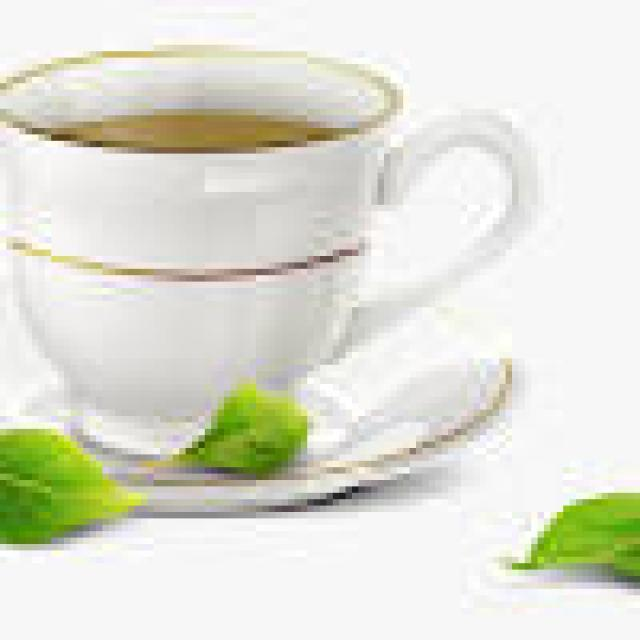taza: (0, 32, 545, 452)
